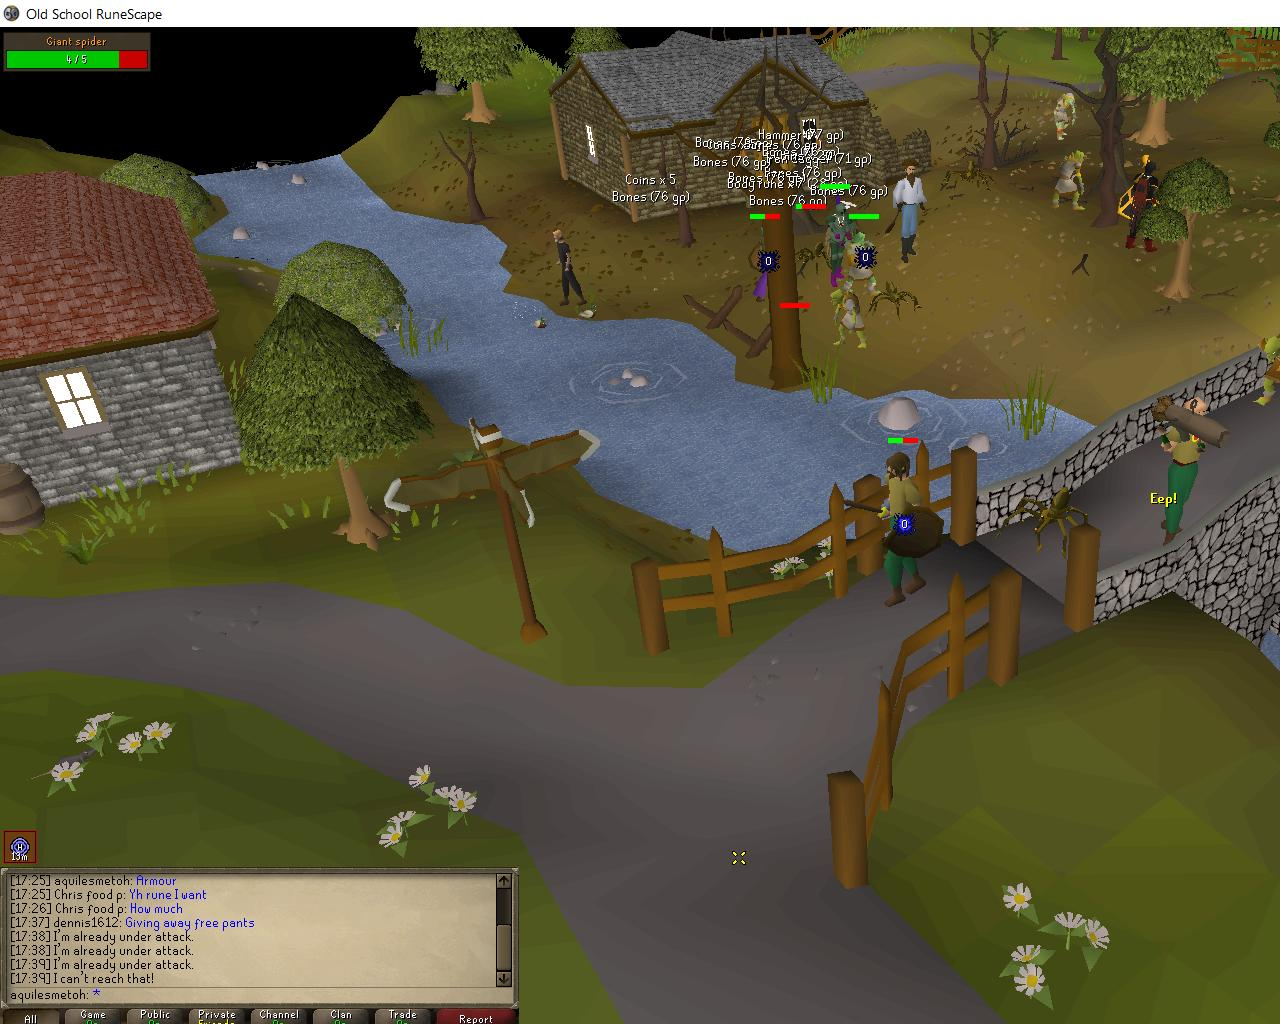Goblin: (1049, 146, 1089, 214), (844, 231, 886, 295), (827, 289, 871, 348), (1254, 338, 1280, 408), (1048, 91, 1078, 141)
